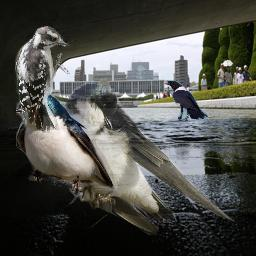Crow: (163, 80, 208, 121)
Swallow: (49, 81, 235, 237), (16, 91, 116, 197)
Woodpecker: (15, 26, 70, 133)
